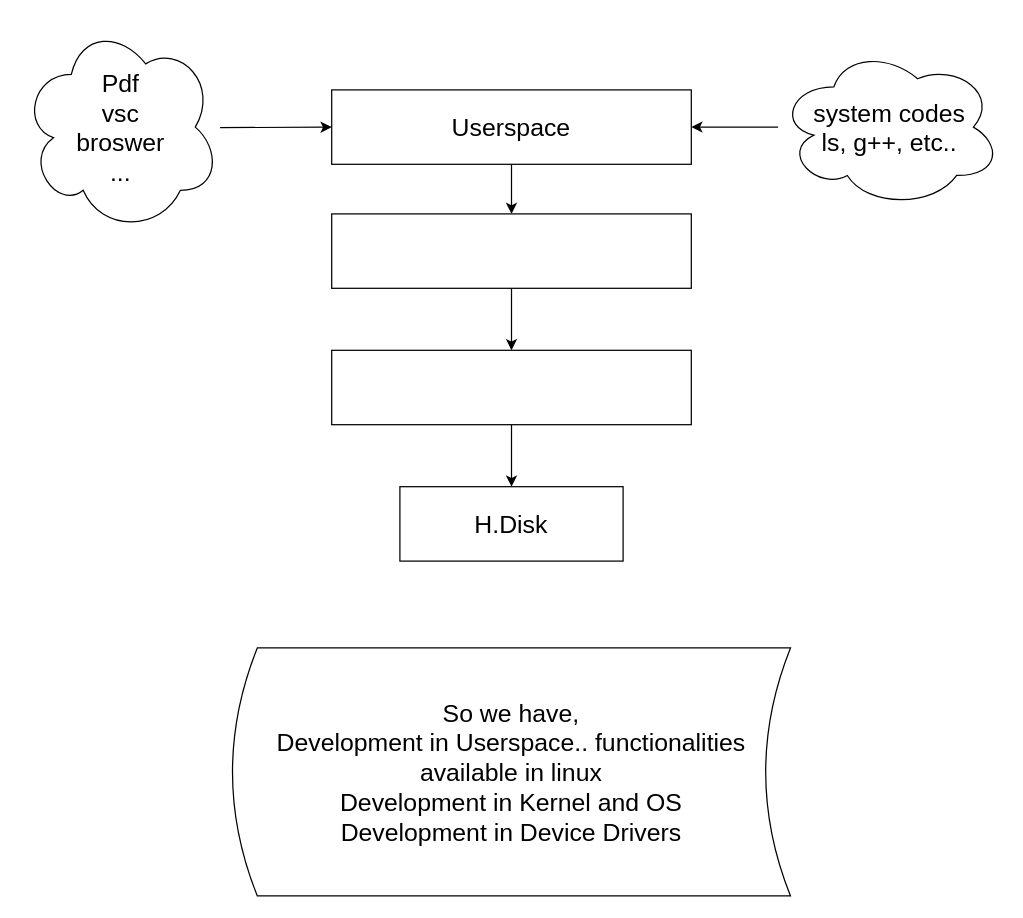
The diagram is 1023 pixels wide and 918 high, and some of its shapes have lost their labels. The shapes that lost their labels are listed below. From the top down, each one's centre as x and y in pixels, then its label:
At (x=510, y=250): "Kernel".
At (x=510, y=387): "H.W.".
